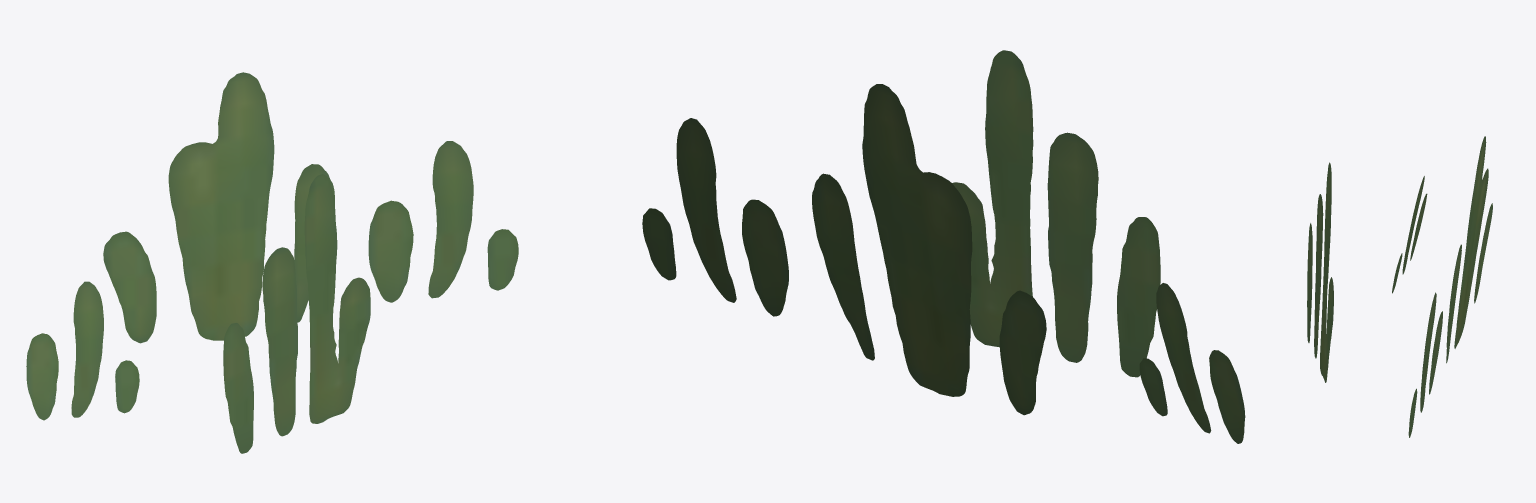
The model's file is pref_sm_beach_techsgrass09_lv2.fbx.
3 renders of one model, left to right at view 1: azimuth 30°, elevation 25°; view 2: azimuth 150°, elevation 25°; view 3: azimuth 270°, elevation 25°, orthographic. The views are drawn at different scales.
Visible parts, largest first — view 1: pref_sm_beach_techsgrass09_lv2; view 2: pref_sm_beach_techsgrass09_lv2; view 3: pref_sm_beach_techsgrass09_lv2.
Boxes of the visible parts, x1,y1,x2,y2 form: pref_sm_beach_techsgrass09_lv2: (26, 72, 518, 453); pref_sm_beach_techsgrass09_lv2: (642, 50, 1245, 443); pref_sm_beach_techsgrass09_lv2: (1307, 136, 1492, 437).
Size of the model in its own units: 0.9596 by 0.6504 by 0.3838.
